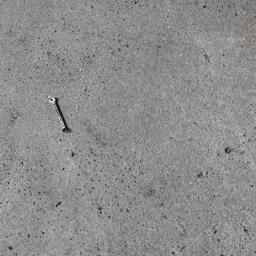FOD: (48, 97, 73, 135)
